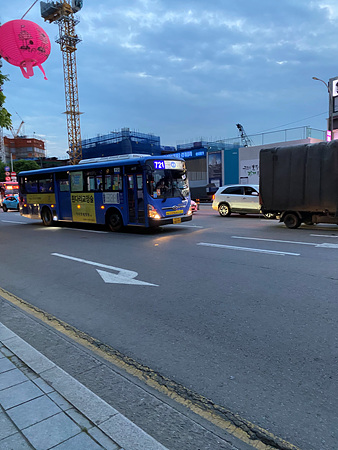entrance: (125, 162, 148, 223)
